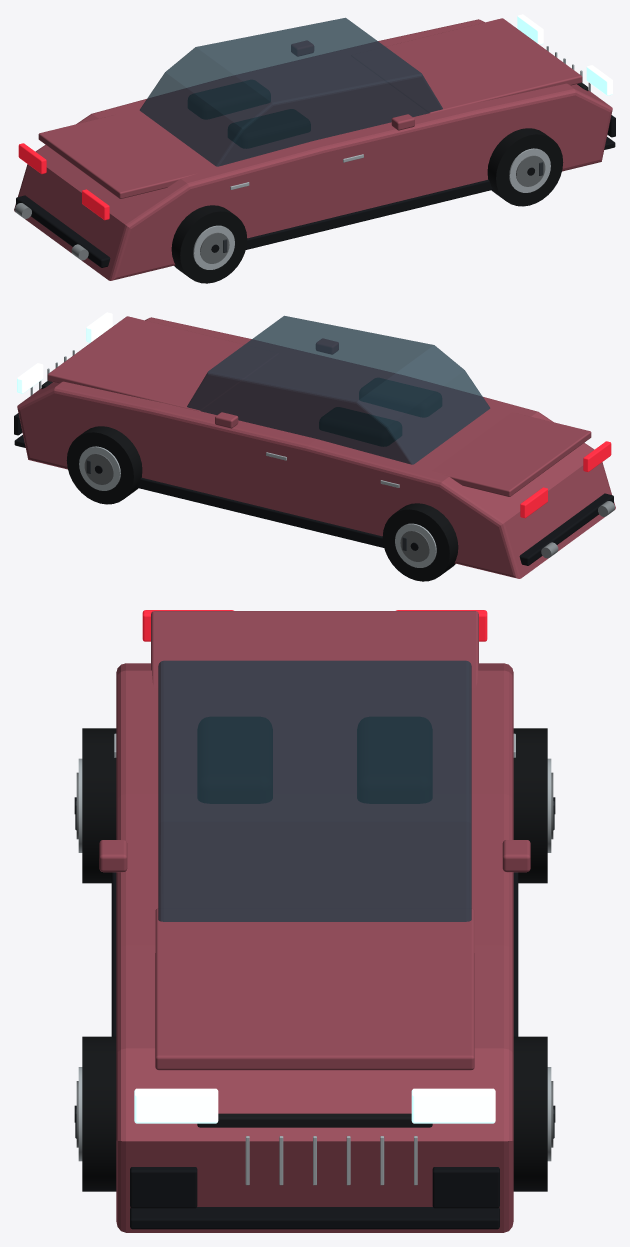
Rendered from rr_dawn.glb.
The picture shows the model from 3 angles, top to bottom: view 1: azimuth 30°, elevation 25°; view 2: azimuth 150°, elevation 25°; view 3: azimuth 270°, elevation 25°; orthographic projection. The views are drawn at different scales.
Visible parts, largest first — view 1: sculpted_body, glasshouse, hood_center, rear_deck, rear_right_wheel_tire, front_right_wheel_tire, side_skirt_1, seat_-1, seat_1, rear_diffuser, rear_right_wheel_rim, front_right_wheel_rim (+6 smaller); view 2: sculpted_body, glasshouse, hood_center, rear_deck, rear_left_wheel_tire, front_left_wheel_tire, side_skirt_-1, seat_1, seat_-1, rear_diffuser, rear_left_wheel_rim, front_left_wheel_rim (+6 smaller); view 3: sculpted_body, glasshouse, hood_center, rear_deck, front_splitter, seat_-1, seat_1, front_left_wheel_tire, front_right_wheel_tire, rear_left_wheel_tire, rear_right_wheel_tire, front_grille (+8 smaller).
Part boxes in pixels (bbox=[...]): sculpted_body: bbox=[14, 19, 612, 280]; glasshouse: bbox=[139, 17, 442, 166]; hood_center: bbox=[351, 18, 582, 113]; rear_deck: bbox=[38, 114, 198, 198]; rear_right_wheel_tire: bbox=[171, 205, 247, 283]; front_right_wheel_tire: bbox=[487, 128, 563, 206]; side_skirt_1: bbox=[245, 179, 492, 249]; seat_-1: bbox=[188, 80, 270, 118]; seat_1: bbox=[228, 109, 310, 148]; rear_diffuser: bbox=[16, 195, 110, 267]; rear_right_wheel_rim: bbox=[193, 225, 234, 269]; front_right_wheel_rim: bbox=[509, 148, 550, 192]; sculpted_body: bbox=[17, 317, 615, 578]; glasshouse: bbox=[187, 315, 490, 464]; hood_center: bbox=[47, 316, 278, 411]; rear_deck: bbox=[431, 412, 591, 496]; rear_left_wheel_tire: bbox=[382, 503, 458, 581]; front_left_wheel_tire: bbox=[66, 426, 142, 504]; side_skirt_-1: bbox=[137, 477, 384, 547]; seat_1: bbox=[359, 378, 441, 416]; seat_-1: bbox=[319, 407, 401, 446]; rear_diffuser: bbox=[519, 493, 613, 565]; rear_left_wheel_rim: bbox=[395, 523, 436, 567]; front_left_wheel_rim: bbox=[79, 446, 120, 490]; sculpted_body: bbox=[116, 663, 513, 1232]; glasshouse: bbox=[158, 660, 471, 921]; hood_center: bbox=[155, 908, 474, 1070]; rear_deck: bbox=[151, 611, 478, 687]; front_splitter: bbox=[130, 1207, 499, 1229]; seat_-1: bbox=[357, 717, 431, 803]; seat_1: bbox=[198, 717, 272, 803]; front_left_wheel_tire: bbox=[513, 1036, 547, 1191]; front_right_wheel_tire: bbox=[82, 1036, 116, 1191]; rear_left_wheel_tire: bbox=[513, 728, 547, 883]; rear_right_wheel_tire: bbox=[82, 728, 116, 883]; front_grille: bbox=[197, 1113, 432, 1127].
Bounding box in the file's own units: 5.65 × 1.5 × 2.23.
